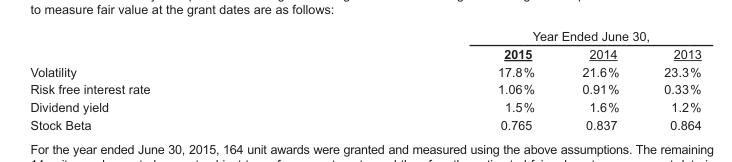table: (29, 28, 700, 131)
table column: (29, 28, 323, 131), (323, 28, 557, 131), (557, 28, 640, 131), (640, 28, 700, 131)
table column header: (29, 28, 700, 62)
table row: (29, 44, 700, 62), (29, 62, 700, 80), (29, 97, 700, 115), (29, 80, 700, 97), (29, 28, 700, 44), (29, 115, 700, 131)
table spanning cell: (323, 28, 700, 44)
